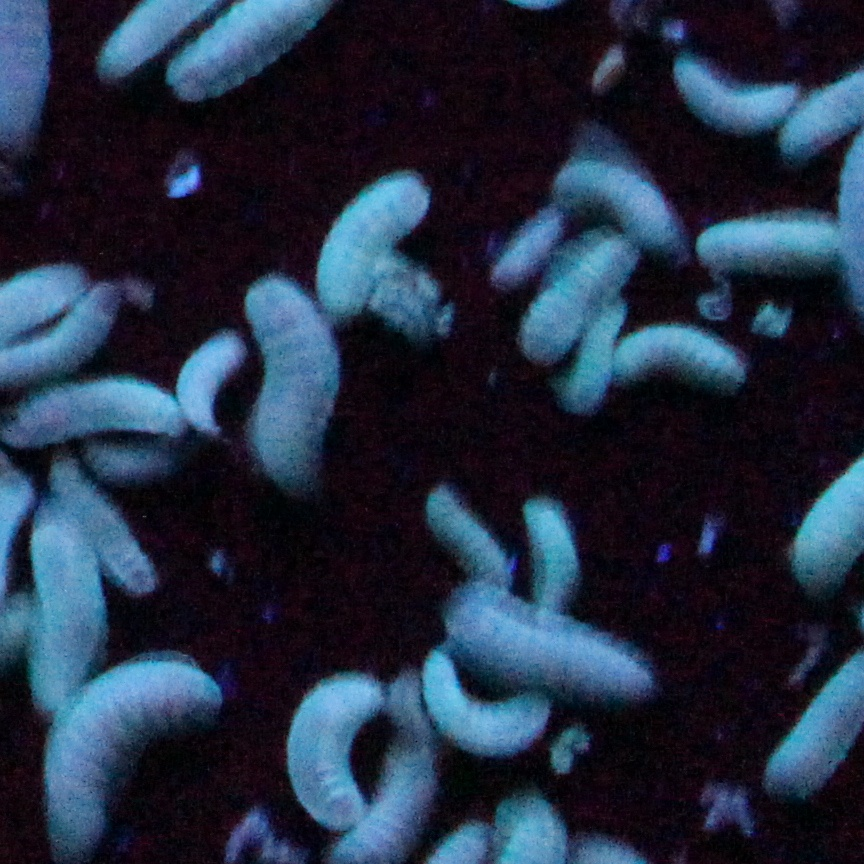larve: (47, 653, 232, 853), (434, 591, 672, 709), (245, 270, 332, 503), (307, 168, 432, 318), (524, 228, 639, 359), (287, 670, 384, 824), (418, 653, 551, 764), (53, 459, 155, 597), (559, 155, 691, 259), (420, 476, 522, 589), (676, 45, 799, 137), (697, 203, 845, 270), (612, 324, 747, 397), (553, 299, 639, 412), (174, 334, 243, 441), (518, 491, 580, 607), (491, 201, 568, 293)
